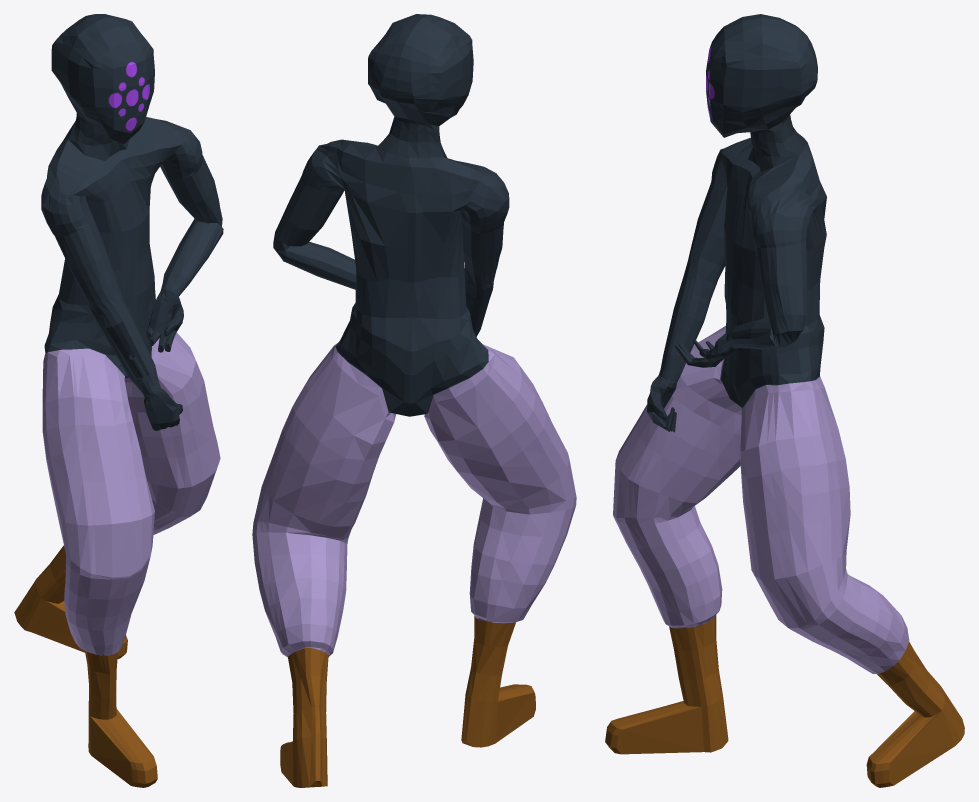
The model's file is Oracle_WB_000010.obj.
3 renders of one model, left to right at view 1: azimuth 30°, elevation 25°; view 2: azimuth 150°, elevation 25°; view 3: azimuth 270°, elevation 25°, orthographic. The views are drawn at different scales.
Visible parts, largest first — view 1: Cube; view 2: Cube; view 3: Cube.
Part boxes in pixels (x1,y1,x2,y2): Cube: [14, 14, 223, 787]; Cube: [252, 14, 576, 787]; Cube: [605, 14, 964, 787].
Size of the model in its own units: 1.22 by 3.73 by 1.63.
